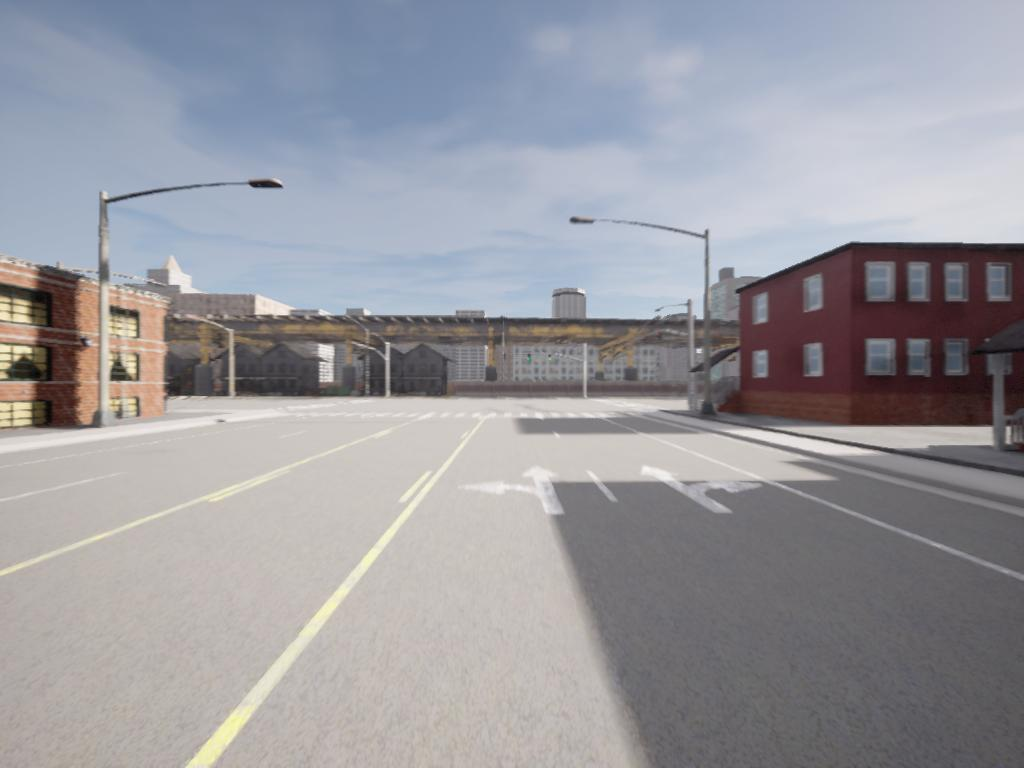traffic_light: (643, 337, 649, 350), (656, 332, 662, 344), (504, 353, 508, 362), (528, 355, 532, 363), (549, 355, 553, 363)
